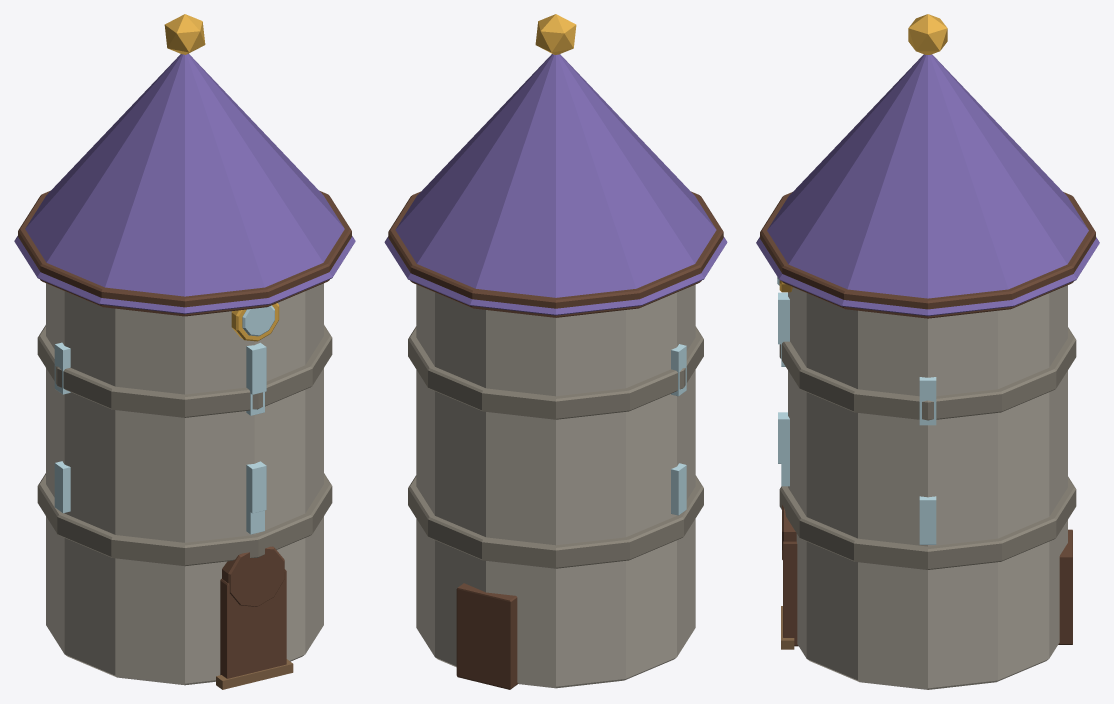
File: tower.glb
3 views of the same model, side by side, from view 1: azimuth 30°, elevation 25°; view 2: azimuth 150°, elevation 25°; view 3: azimuth 270°, elevation 25° (orthographic).
Parts seen in each view (by area): view 1: t_body, t_roof, t_band1, t_band2, t_roof_base, t_door, t_door_arch, t_star, t_slit2.1, t_slit1.3, t_doorframe, t_slit_-90_11 (+3 smaller); view 2: t_body, t_roof, t_band1, t_band2, t_backdoor, t_roof_base, t_star, t_slit_-90_11, t_slit_-90_19; view 3: t_body, t_roof, t_band1, t_band2, t_roof_base, t_door, t_backdoor, t_star, t_slit_90_11, t_slit_90_19, t_slit1.3.
Part boxes in pixels (<box>): t_body: <box>46,283,323,685</box>; t_roof: <box>14,53,355,314</box>; t_band1: <box>37,473,332,566</box>; t_band2: <box>37,325,332,417</box>; t_roof_base: <box>18,190,351,316</box>; t_door: <box>220,569,286,678</box>; t_door_arch: <box>222,546,284,606</box>; t_star: <box>164,14,205,54</box>; t_slit2.1: <box>246,342,266,394</box>; t_slit1.3: <box>246,461,266,513</box>; t_doorframe: <box>216,659,293,689</box>; t_slit_-90_11: <box>54,461,70,513</box>; t_body: <box>416,284,695,688</box>; t_roof: <box>384,54,727,315</box>; t_band1: <box>408,475,703,568</box>; t_band2: <box>408,326,703,419</box>; t_backdoor: <box>456,583,518,689</box>; t_roof_base: <box>388,191,723,317</box>; t_star: <box>535,14,576,54</box>; t_slit_-90_11: <box>671,463,686,515</box>; t_slit_-90_19: <box>671,344,686,396</box>; t_body: <box>788,285,1067,689</box>; t_roof: <box>756,54,1099,316</box>; t_band1: <box>779,476,1076,569</box>; t_band2: <box>779,327,1076,420</box>; t_roof_base: <box>760,192,1095,318</box>; t_door: <box>783,541,798,646</box>; t_backdoor: <box>1058,529,1072,644</box>; t_star: <box>908,14,947,54</box>; t_slit_90_11: <box>919,496,936,544</box>; t_slit_90_19: <box>919,377,936,425</box>; t_slit1.3: <box>778,412,789,463</box>.
Bounding box in the file's own units: 2.09 × 4.14 × 2.09.
